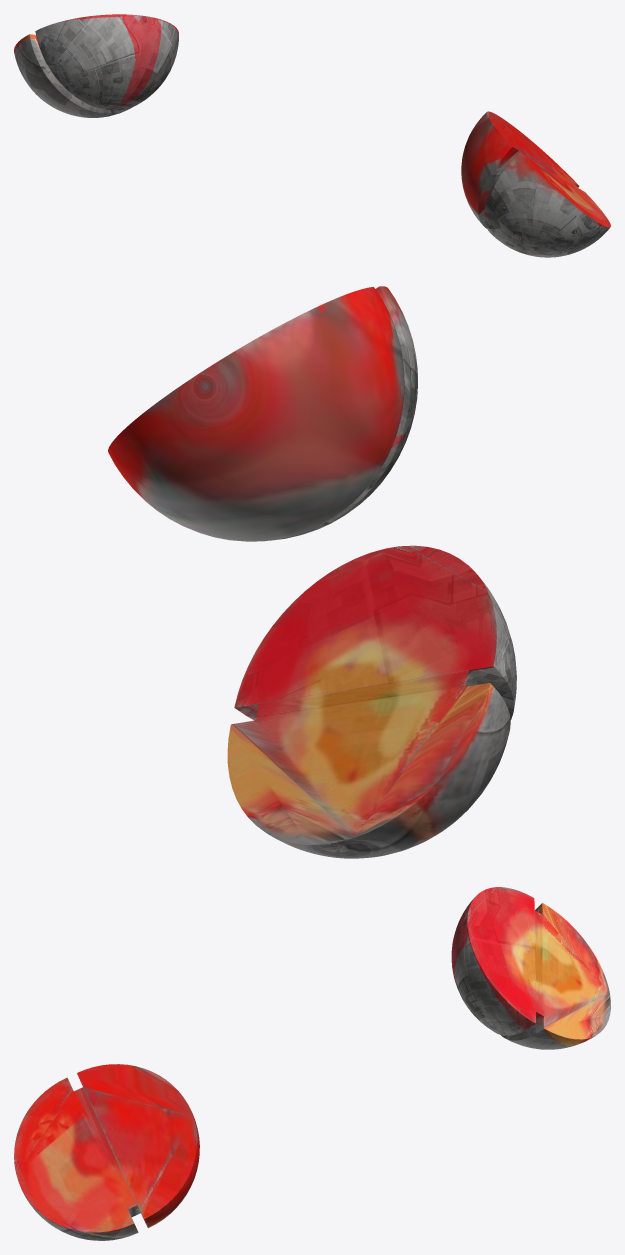
Rendered from Drone166_000021.obj.
The picture shows the model from 3 angles, top to bottom: view 1: azimuth 30°, elevation 25°; view 2: azimuth 150°, elevation 25°; view 3: azimuth 270°, elevation 25°; orthographic projection. The views are drawn at different scales.
Visible parts, largest first — view 1: Sphere.001_Sphere.005, Sphere.000_Sphere.004; view 2: Sphere.000_Sphere.004, Sphere.001_Sphere.005; view 3: Sphere.001_Sphere.005, Sphere.000_Sphere.004.
Boxes of the visible parts, x1=… form: Sphere.001_Sphere.005: x1=461, y1=111, x2=610, y2=257; Sphere.000_Sphere.004: x1=14, y1=14, x2=178, y2=117; Sphere.000_Sphere.004: x1=227, y1=545, x2=516, y2=858; Sphere.001_Sphere.005: x1=108, y1=286, x2=417, y2=541; Sphere.001_Sphere.005: x1=14, y1=1064, x2=199, y2=1240; Sphere.000_Sphere.004: x1=451, y1=887, x2=610, y2=1049.
Size of the model in its own units: 5.41 by 2.43 by 6.81.
Materials: 4 (4 with a texture image).
